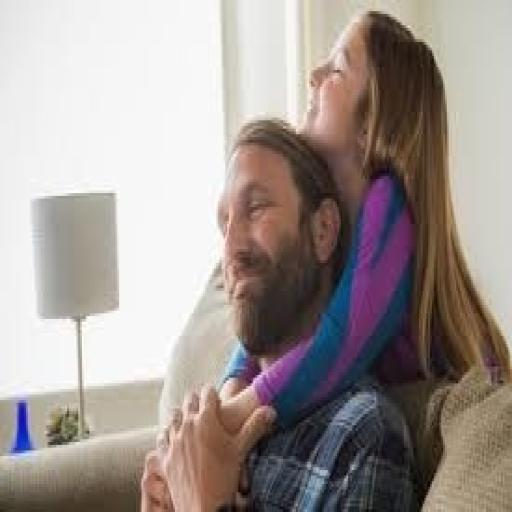hugging: (140, 8, 510, 510)
